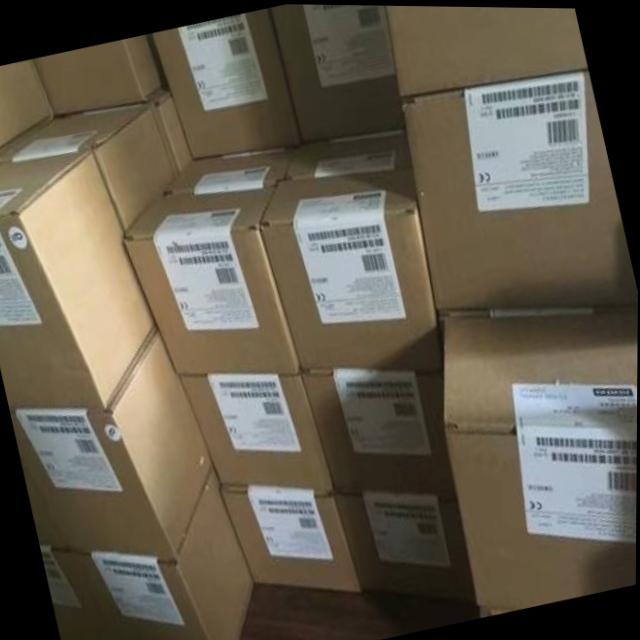box: (443, 305, 638, 614), (398, 66, 638, 306), (11, 327, 214, 562), (0, 148, 158, 413), (260, 166, 442, 372), (123, 181, 301, 373), (69, 465, 254, 640), (0, 99, 174, 232), (152, 6, 301, 158), (301, 370, 457, 499), (176, 370, 336, 492), (269, 3, 404, 143), (384, 4, 588, 95), (218, 484, 363, 590), (336, 492, 477, 601), (31, 32, 167, 113), (285, 127, 411, 178), (165, 143, 301, 190), (41, 546, 102, 640), (0, 59, 53, 150), (146, 81, 193, 178), (21, 458, 69, 551), (438, 301, 638, 317)
